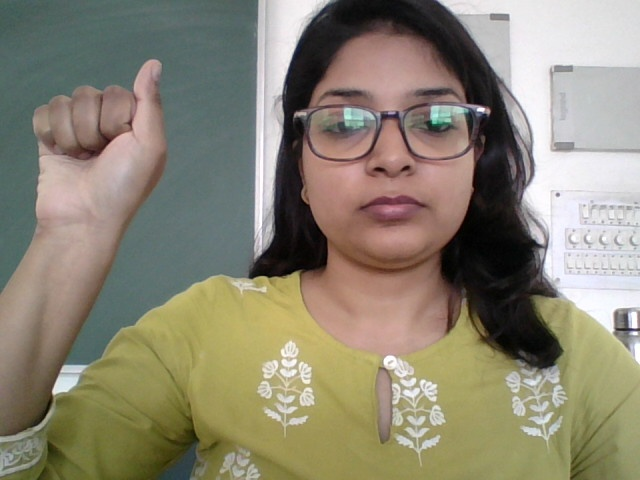A: (22, 57, 180, 251)
